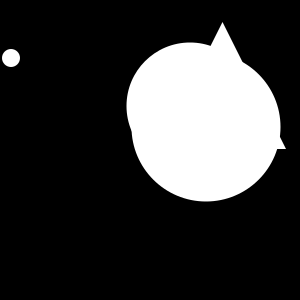rectangle: (132, 53, 280, 202), (126, 42, 254, 169), (2, 49, 20, 67)
triangle: (159, 22, 286, 149)
